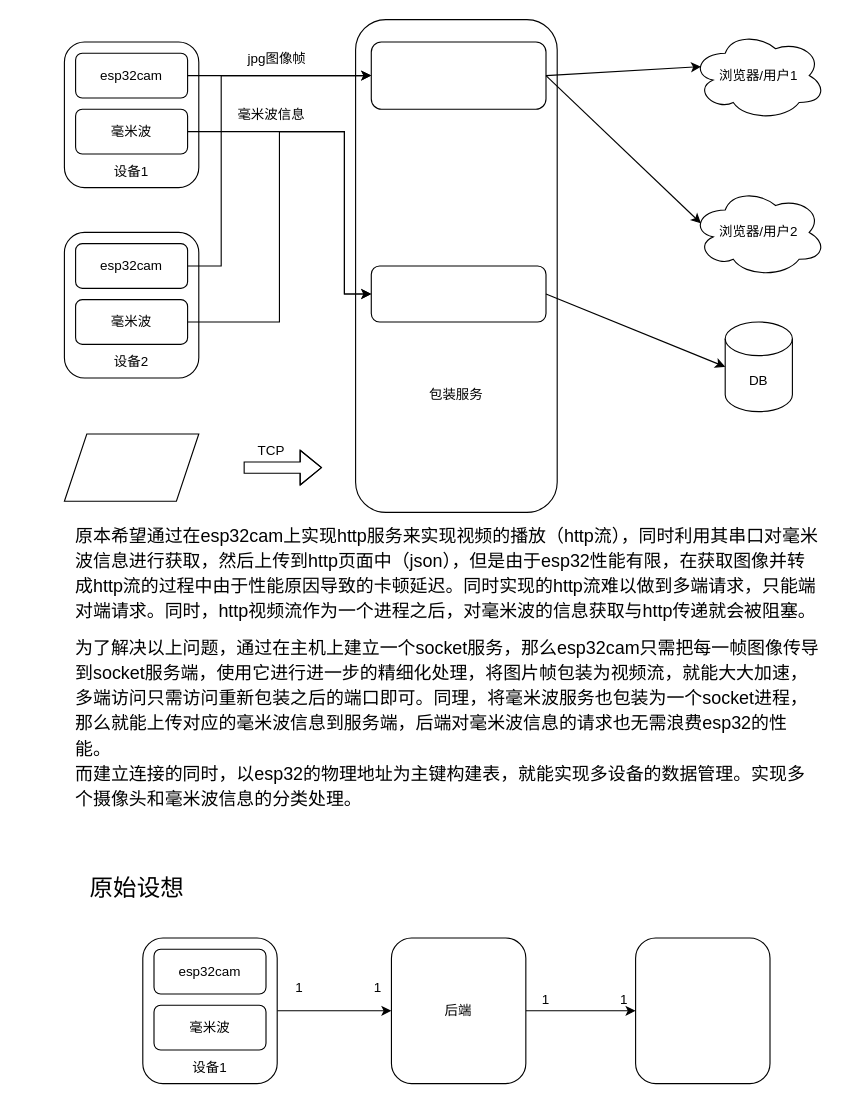
Image size: 846x1103. Some labels were removed from this diagram. The shapes that lost their labels are listed below. From the top down, each one's centre as x and y in pixels, then its label:
At (x=458, y=75): "图像转http视频流服务".
At (x=458, y=293): "毫米波信息服务".
At (x=131, y=467): "更多设备".
At (x=702, y=1010): "前端/用户".
